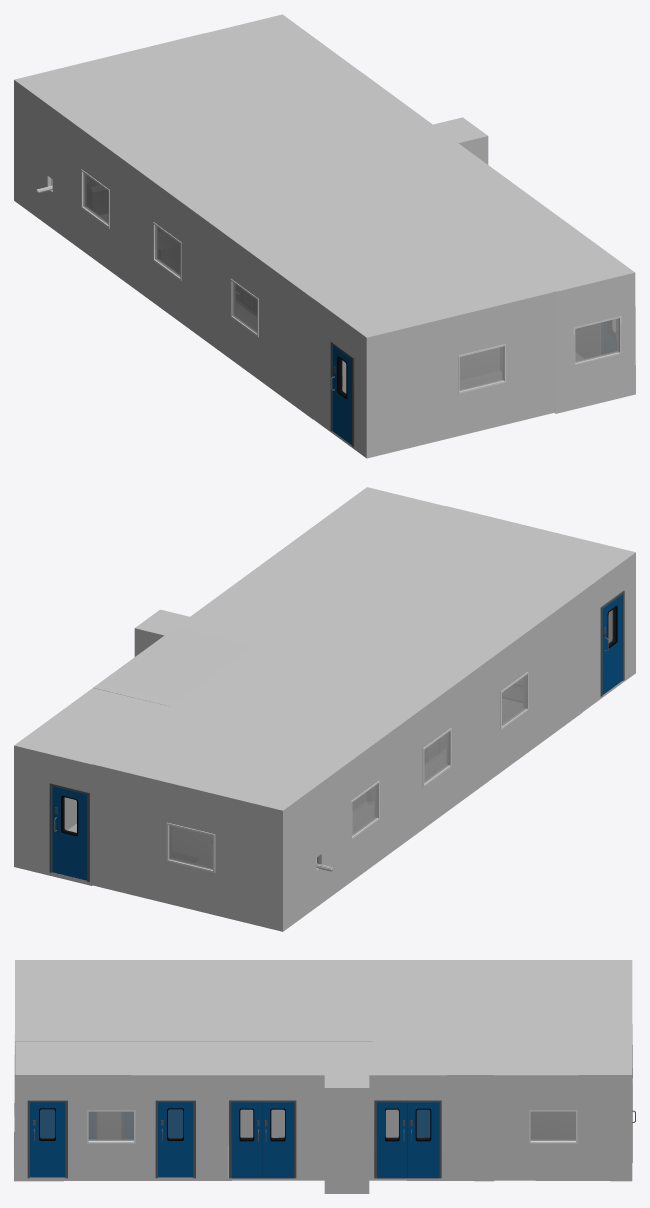
The model's file is MDI Filling machine and room.fbx.
The picture shows the model from 3 angles, top to bottom: view 1: azimuth 30°, elevation 25°; view 2: azimuth 150°, elevation 25°; view 3: azimuth 270°, elevation 25°; orthographic projection. The views are drawn at different scales.
Visible parts, largest first — view 1: polySurface20197, pCube288, pCube286, pCube287, pasted__door1, polySurface20250, polySurface20246, polySurface20252, polySurface20191, polySurface20193, polySurface20192; view 2: polySurface20197, pCube286, pCube288, pCube287, pasted__door1 (×2), polySurface20251, polySurface20252, polySurface20192, polySurface20193, polySurface20191, pasted__doorframe; view 3: pCube286, polySurface20197, pCube287, pCube288, pasted__door1 (×3), pasted__door3 (×3), pasted__door2 (×3), polySurface20247, polySurface20248, pasted__doorframe1 (×2), pasted__doorframe (×2), polySurface20252.
Part boxes in pixels (x1,y1,x2,y2): polySurface20197: (14,33,502,419); pCube288: (313,252,556,458); pCube286: (284,72,635,413); pCube287: (205,14,360,90); pasted__door1: (331,345,351,444); polySurface20250: (459,346,503,390); polySurface20246: (575,318,619,362); polySurface20252: (51,169,621,364); polySurface20191: (232,282,257,333); polySurface20193: (83,173,108,224); polySurface20192: (155,225,180,276); polySurface20197: (92,545,582,931); pCube286: (93,487,444,706); pCube288: (391,506,635,712); pCube287: (14,688,170,885); pasted__door1 (×2): (52,594,622,880); polySurface20251: (169,825,212,869); polySurface20252: (317,671,528,863); polySurface20192: (424,732,449,783); polySurface20193: (352,784,377,835); polySurface20191: (502,675,526,726); pasted__doorframe: (49,783,89,881); pCube286: (14,1041,494,1193); polySurface20197: (109,960,632,1144); pCube287: (494,1041,632,1181); pCube288: (15,960,109,1045); pasted__door1 (×3): (30,1102,430,1177); pasted__door3 (×3): (168,1102,439,1178); pasted__door2 (×3): (40,1102,407,1178); polySurface20247: (88,1111,133,1140); polySurface20248: (530,1111,575,1140); pasted__doorframe1 (×2): (229,1100,441,1178); pasted__doorframe (×2): (27,1100,195,1178); polySurface20252: (87,1109,577,1143).
Size of the model in its own units: 959 by 358 by 1896.
